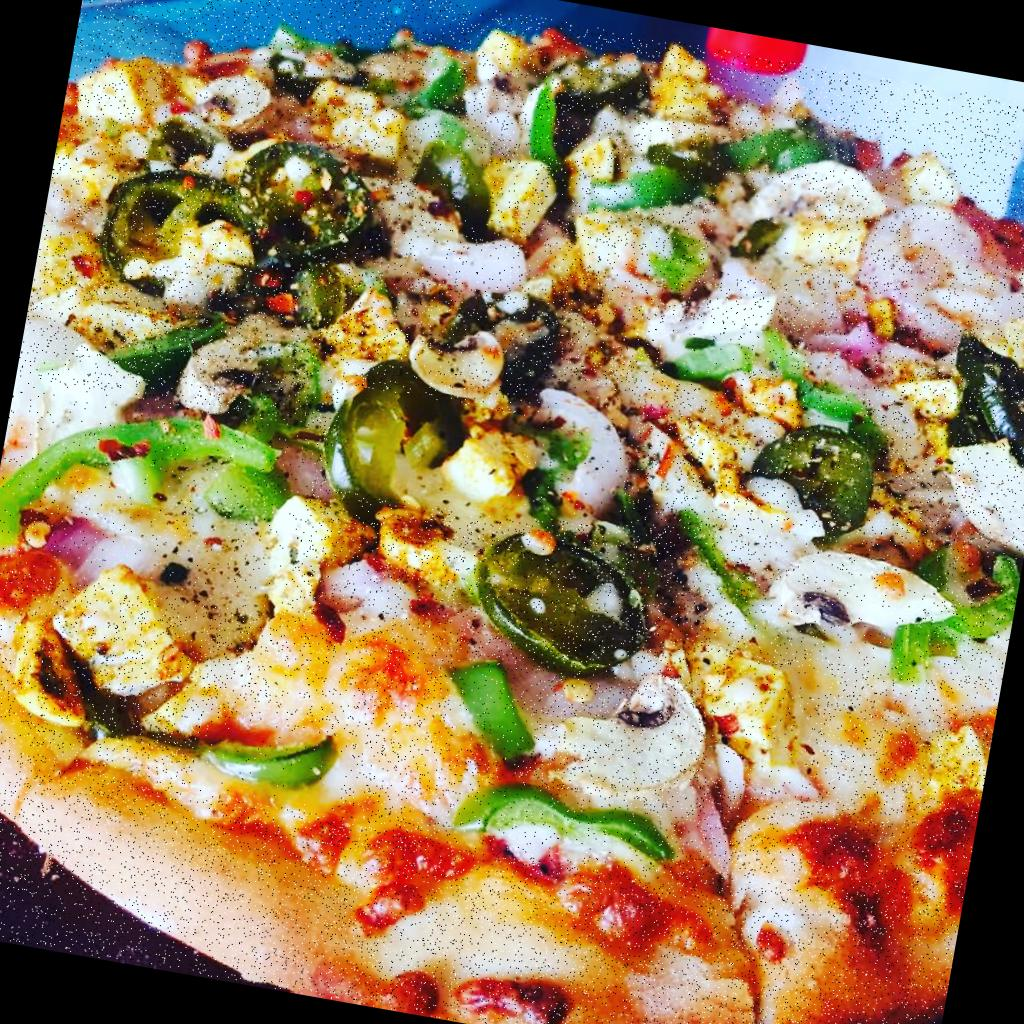Chicken: (36, 558, 224, 732), (676, 652, 822, 792), (468, 158, 566, 266)
Mushroom: (750, 521, 944, 678), (534, 658, 718, 806), (706, 174, 810, 284), (398, 310, 518, 404), (194, 63, 266, 131)
Onion: (840, 193, 1020, 378), (513, 378, 640, 531), (380, 210, 562, 303), (158, 322, 266, 422), (804, 300, 898, 386), (20, 504, 112, 563)
Peppers: (0, 378, 317, 619), (584, 100, 826, 258), (98, 156, 289, 324), (329, 385, 548, 524), (872, 546, 1022, 718), (452, 774, 680, 886), (231, 136, 391, 278), (190, 714, 350, 818), (752, 408, 888, 530), (748, 325, 868, 422), (441, 656, 543, 764), (400, 52, 488, 138), (412, 142, 498, 228), (662, 334, 748, 394), (517, 88, 571, 164)
Pizza: (0, 0, 1024, 1024)
